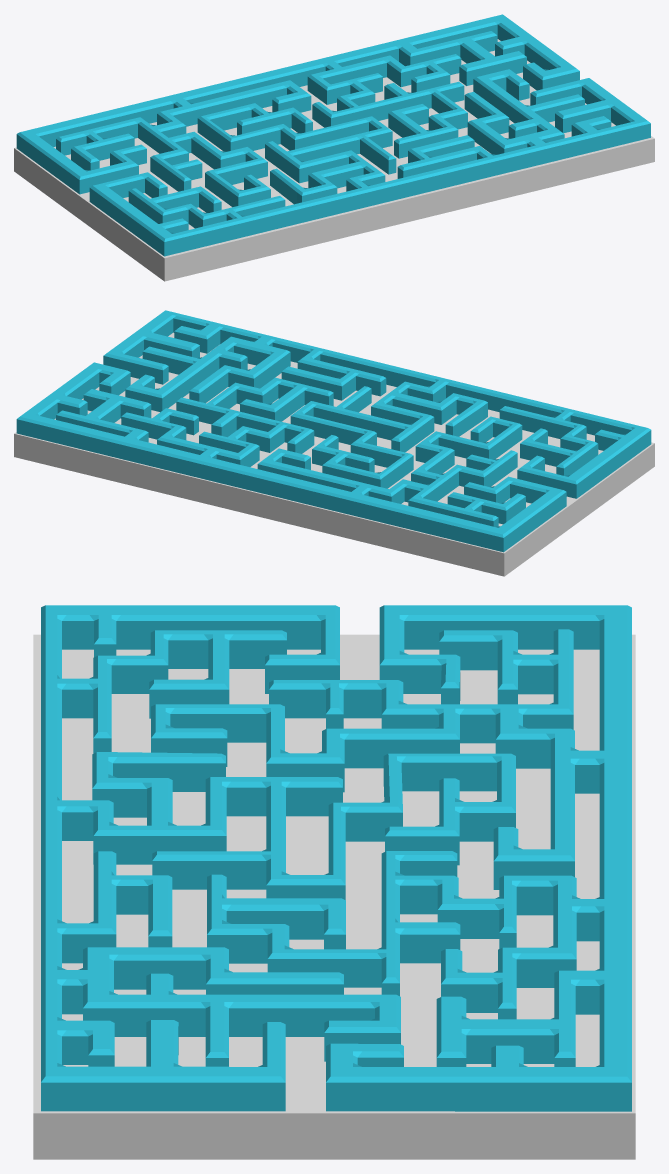
File: labirynthmap.fbx
3 renders of one model, top to bottom at view 1: azimuth 30°, elevation 25°; view 2: azimuth 150°, elevation 25°; view 3: azimuth 270°, elevation 25°, orthographic. The views are drawn at different scales.
Visible parts, largest first — view 1: Walls.001, Ground.005; view 2: Walls.001, Ground.005; view 3: Walls.001, Ground.005.
Part boxes in pixels (box(x1,y1,x2,y2)): Walls.001: box(16, 14, 650, 256); Ground.005: box(14, 39, 654, 281); Walls.001: box(16, 310, 651, 552); Ground.005: box(14, 332, 654, 576); Walls.001: box(41, 605, 631, 1111); Ground.005: box(33, 634, 635, 1159).
Bounding box in the file's own units: 2910 × 225 × 1547.
